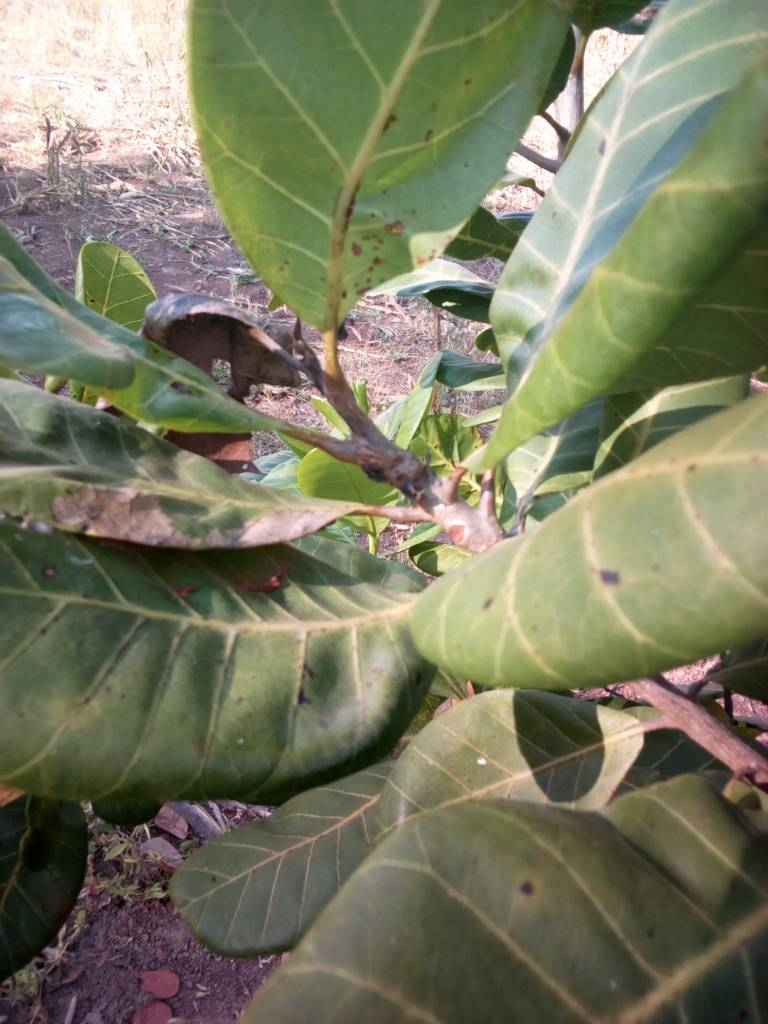Anthracnose: (188, 1, 513, 342), (1, 553, 432, 797), (1, 378, 357, 552)
